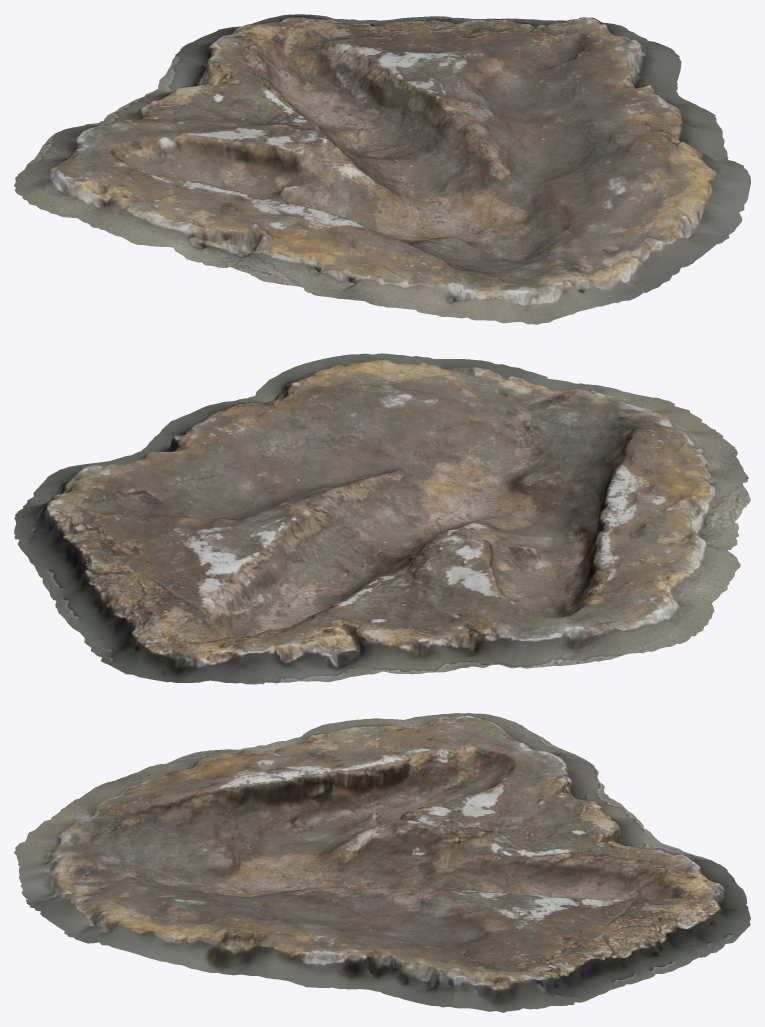
Rendered from footprint.glb.
3 renders of one model, top to bottom at view 1: azimuth 30°, elevation 25°; view 2: azimuth 150°, elevation 25°; view 3: azimuth 270°, elevation 25°, orthographic. The views are drawn at different scales.
Bounding box in the file's own units: 0.7005 × 0.0613 × 0.7465.
1 material, 1 textured.
